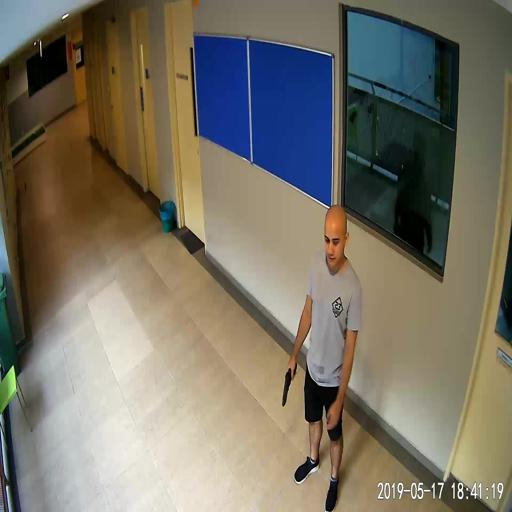pistol: (282, 362, 296, 406)
